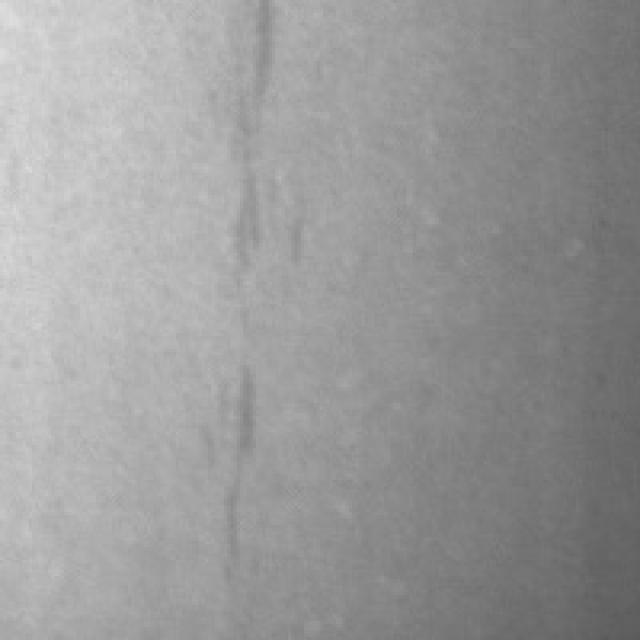inclusion: (217, 0, 300, 358), (202, 342, 278, 605)
